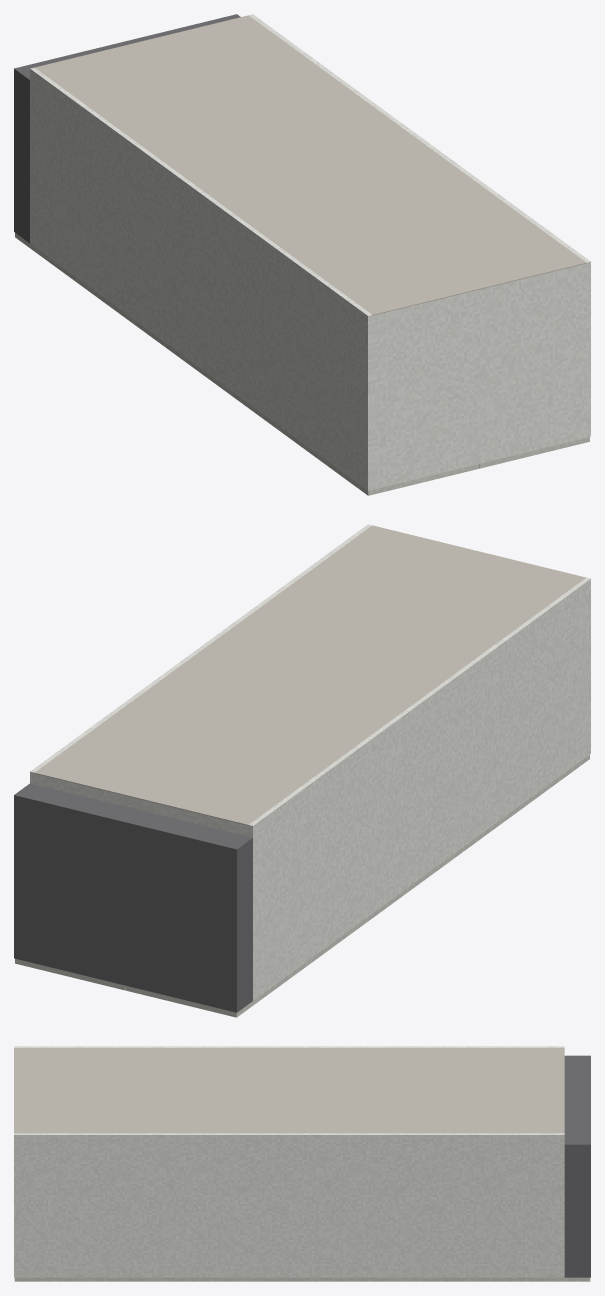
The model's file is tall_800_double.obj.
3 renders of one model, top to bottom at view 1: azimuth 30°, elevation 25°; view 2: azimuth 150°, elevation 25°; view 3: azimuth 270°, elevation 25°, orthographic. The views are drawn at different scales.
Parts seen in each view (by area): view 1: zadnyaya_stenka, bokovina_levaya, krysha, cokol, bokovina_pravaya, fasad_1, fasad_2; view 2: zadnyaya_stenka, bokovina_levaya, cokol, fasad_1, dno, bokovina_pravaya; view 3: bokovina_pravaya, zadnyaya_stenka, cokol, fasad_2, bokovina_levaya.
Part boxes in pixels (x1,y1,x2,y2): zadnyaya_stenka: [35, 15, 586, 315]; bokovina_levaya: [30, 67, 372, 490]; krysha: [372, 263, 586, 489]; cokol: [14, 14, 240, 243]; bokovina_pravaya: [249, 14, 590, 437]; fasad_1: [15, 233, 478, 495]; fasad_2: [479, 437, 589, 468]; zadnyaya_stenka: [34, 525, 585, 825]; bokovina_levaya: [248, 577, 590, 1000]; cokol: [14, 783, 252, 1012]; fasad_1: [126, 754, 589, 1017]; dno: [34, 774, 248, 836]; bokovina_pravaya: [30, 524, 371, 784]; bokovina_pravaya: [14, 1133, 564, 1277]; zadnyaya_stenka: [14, 1048, 564, 1133]; cokol: [564, 1055, 590, 1277]; fasad_2: [14, 1277, 590, 1281]; bokovina_levaya: [14, 1046, 564, 1047].
Size of the model in its own units: 800 by 618 by 2200.
